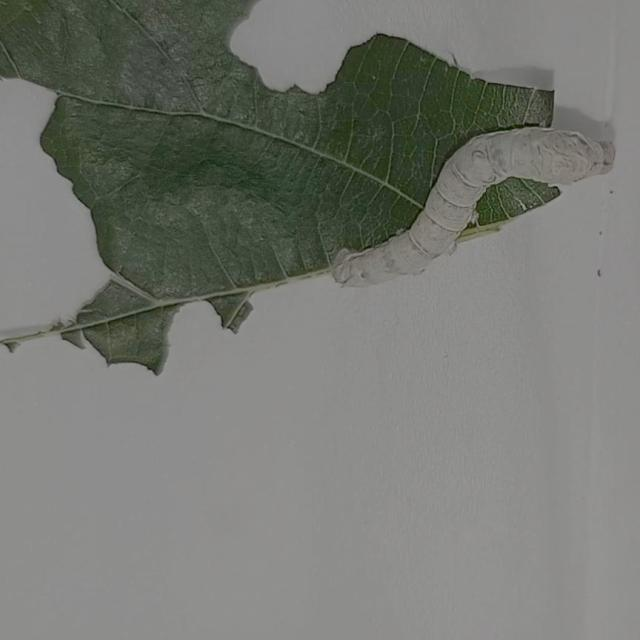Healthy: (325, 76, 629, 309)
